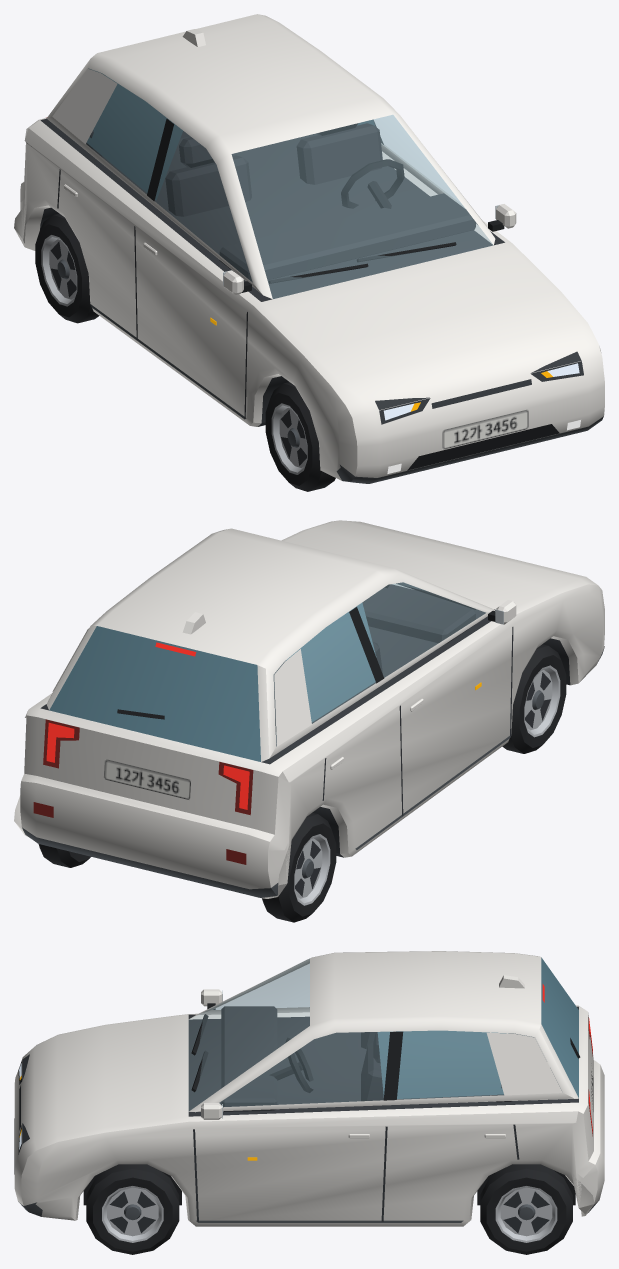
Rendered from SC_Veh_Car_Compact_White.gltf.
The picture shows the model from 3 angles, top to bottom: view 1: azimuth 30°, elevation 25°; view 2: azimuth 150°, elevation 25°; view 3: azimuth 270°, elevation 25°; orthographic projection. The views are drawn at different scales.
Visible parts, largest first — view 1: SC_Veh_Car_Compact_White; view 2: SC_Veh_Car_Compact_White; view 3: SC_Veh_Car_Compact_White.
Boxes of the visible parts, <box> form: SC_Veh_Car_Compact_White: <box>14,14,604,491</box>; SC_Veh_Car_Compact_White: <box>14,520,604,922</box>; SC_Veh_Car_Compact_White: <box>14,951,604,1254</box>.
Size of the model in its own units: 1.71 by 1.53 by 3.6.
Materials: 4 (4 with a texture image).
